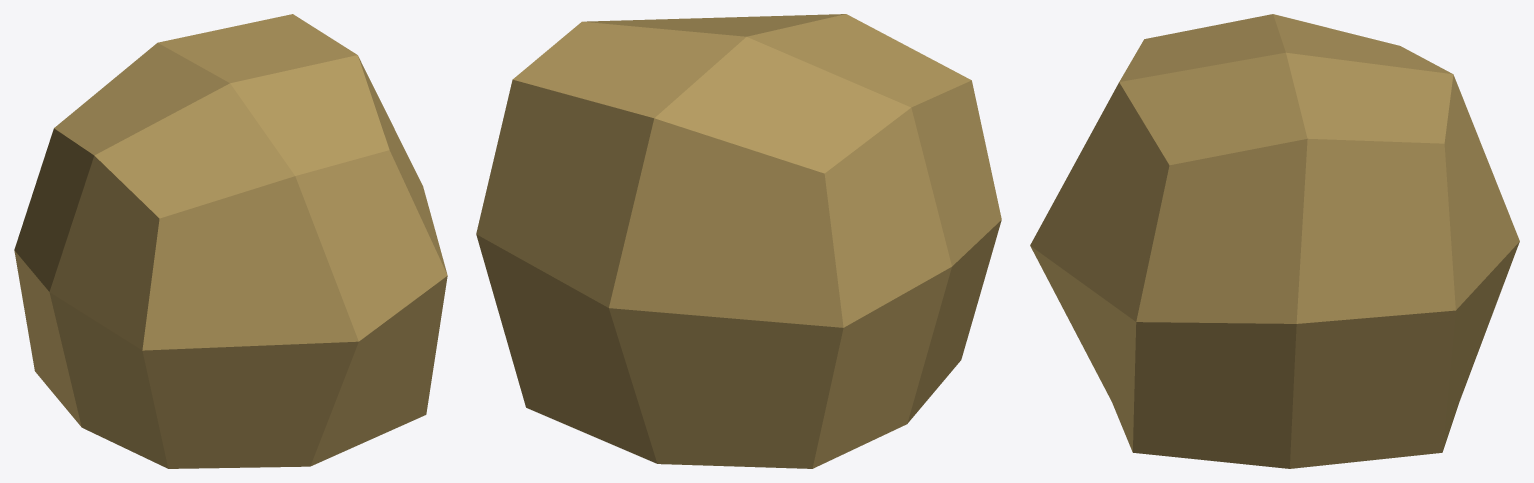
Rendered from a_z3_rock_m.fbx.
The picture shows the model from 3 angles, left to right: view 1: azimuth 30°, elevation 25°; view 2: azimuth 150°, elevation 25°; view 3: azimuth 270°, elevation 25°; orthographic projection. The views are drawn at different scales.
Parts seen in each view (by area): view 1: a_z3_rock_m; view 2: a_z3_rock_m; view 3: a_z3_rock_m.
Boxes of the visible parts, <box> form: a_z3_rock_m: <box>14,14,447,468</box>; a_z3_rock_m: <box>476,14,1001,468</box>; a_z3_rock_m: <box>1030,14,1519,468</box>.
Size of the model in its own units: 219 by 186 by 227.
